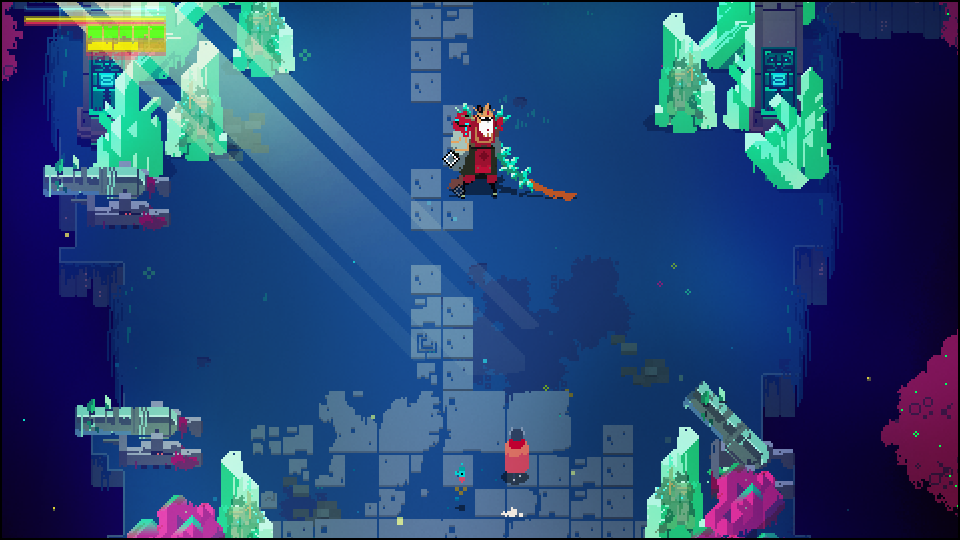hanged_man: (444, 100, 541, 203)
player: (503, 427, 531, 480)
